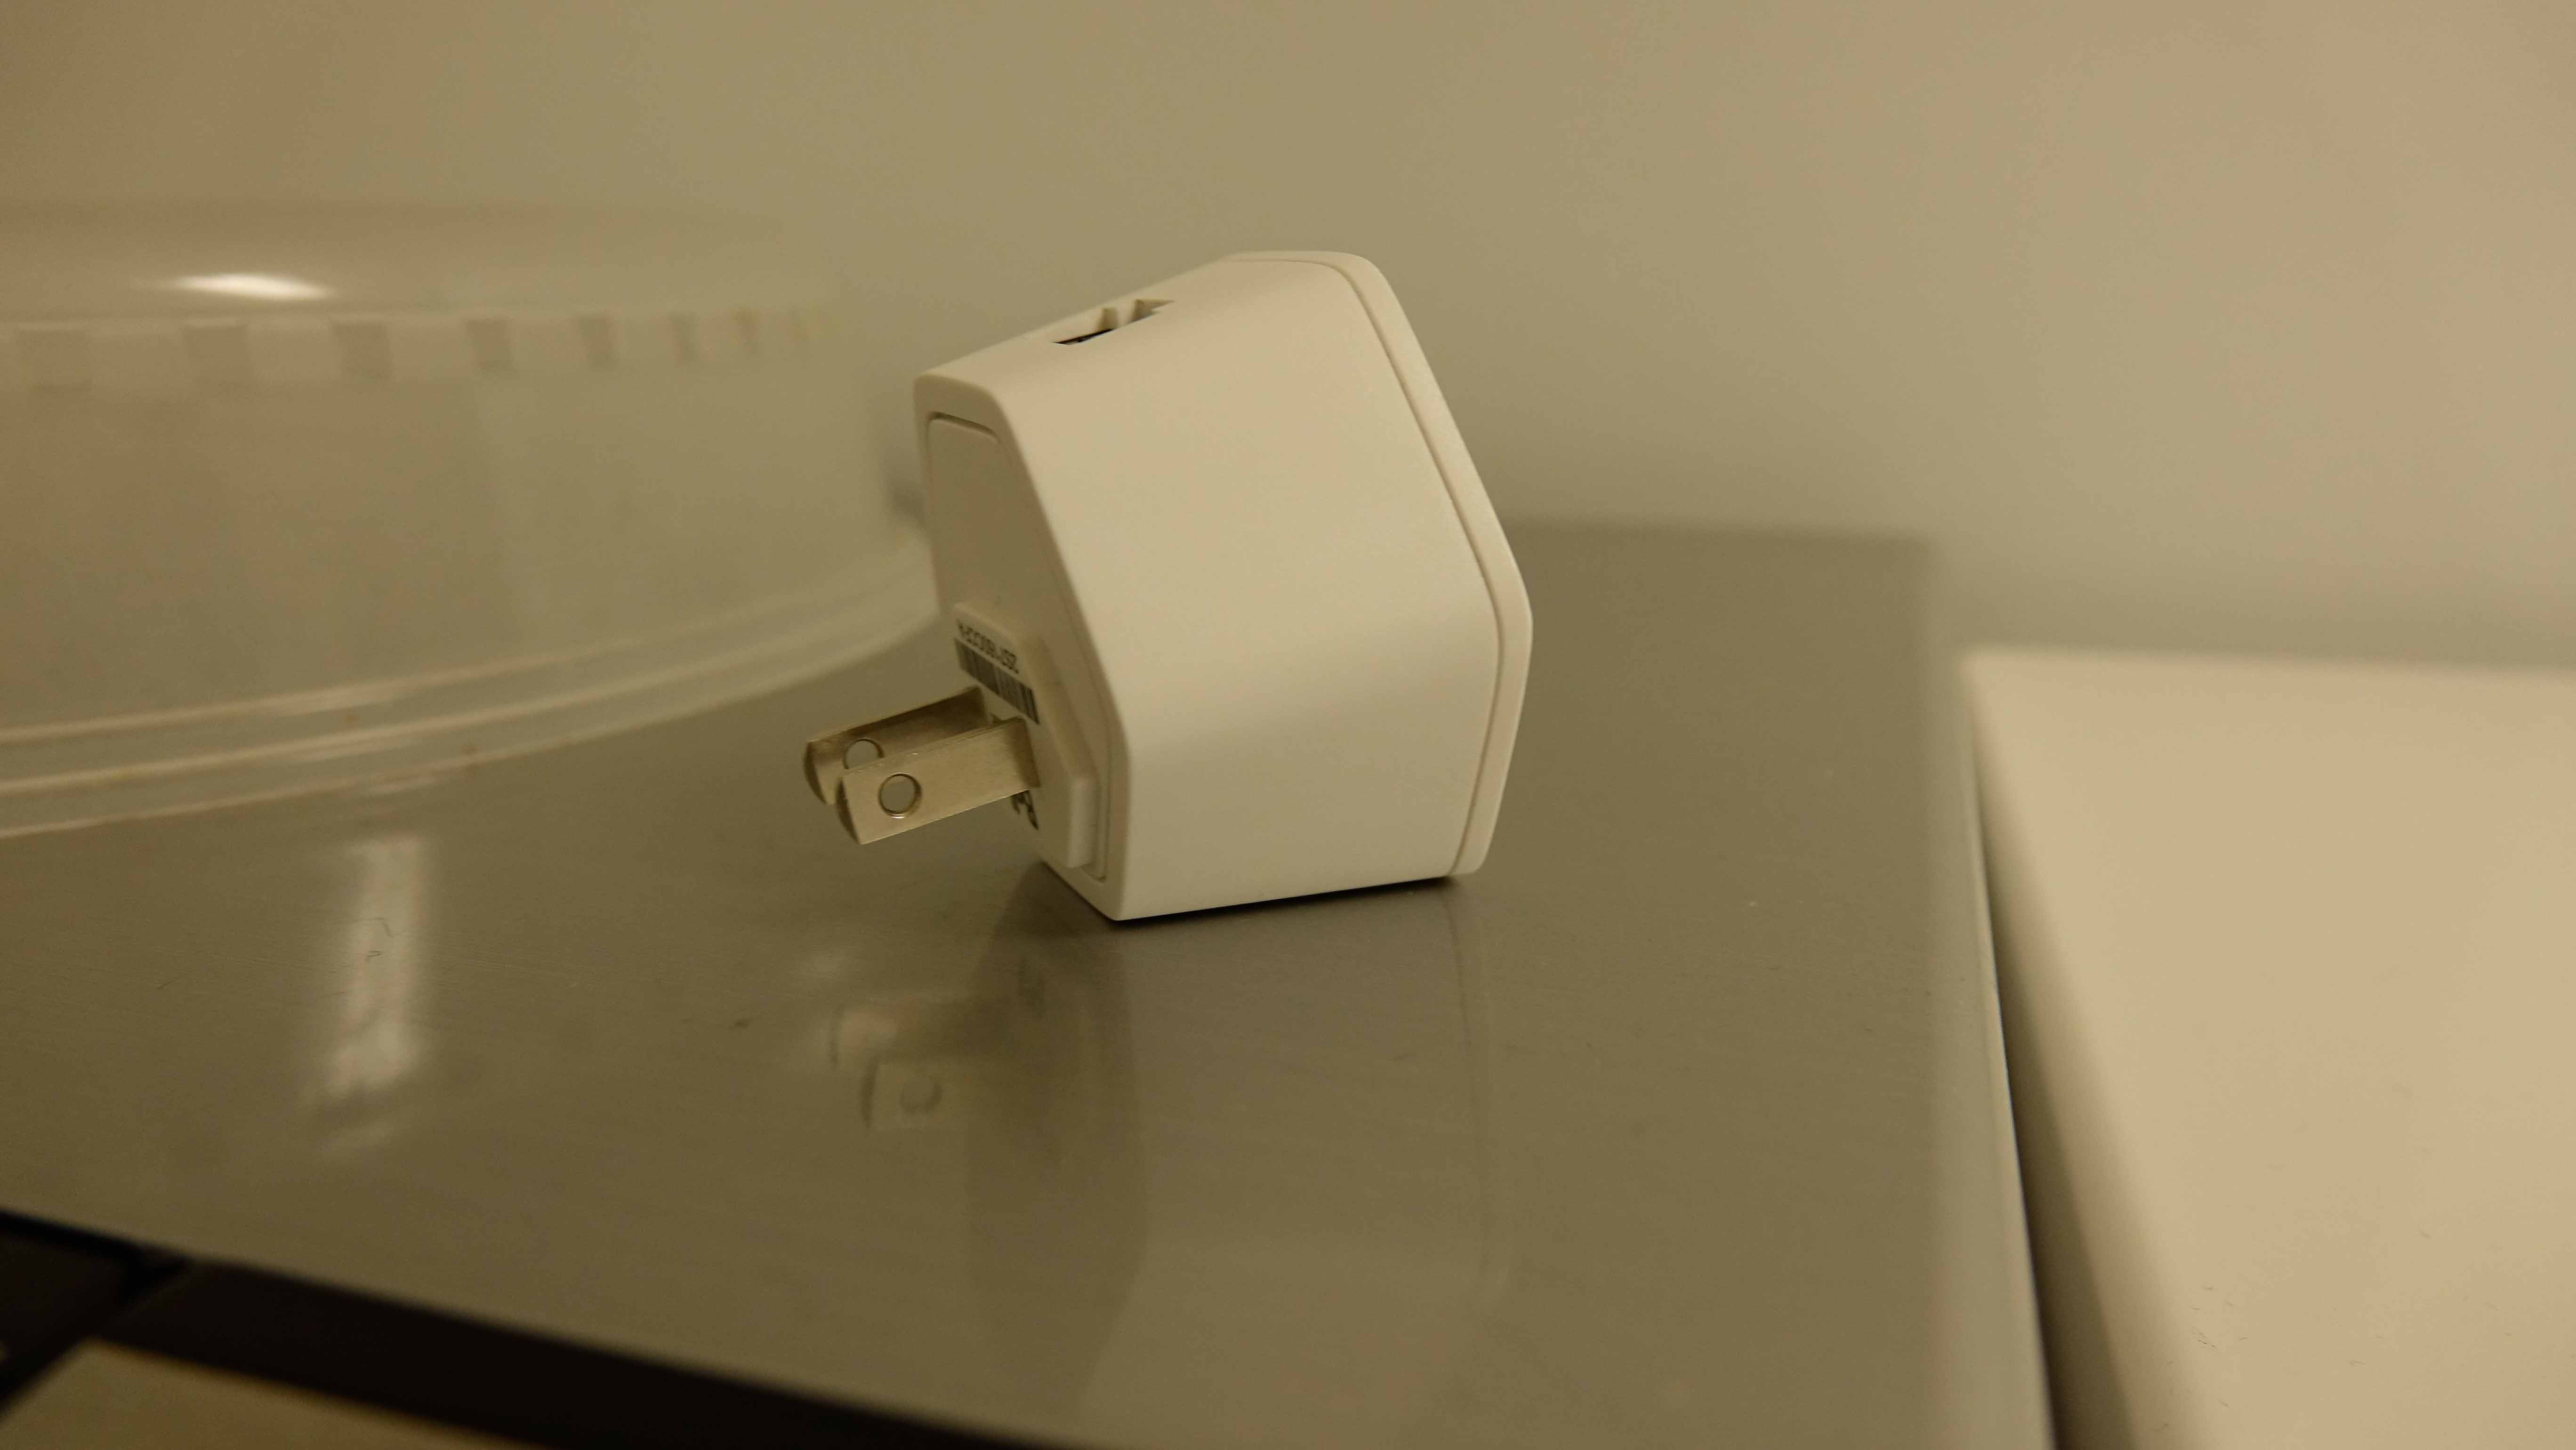pod: (780, 237, 1557, 937)
